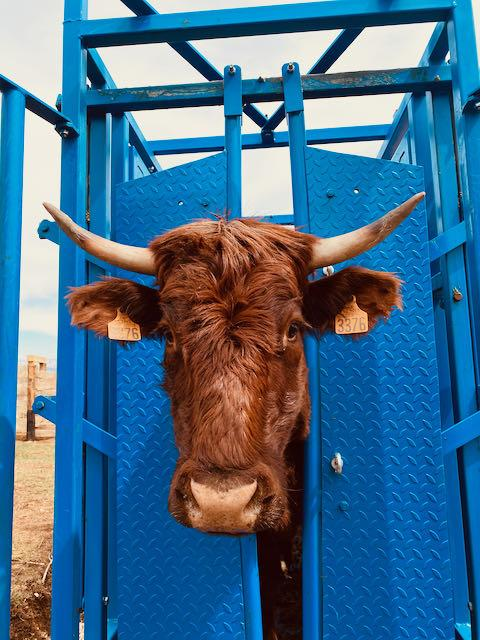muzzles: (164, 465, 292, 538)
